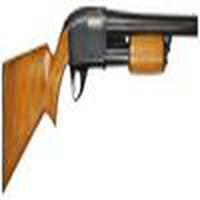gun: (1, 7, 200, 172)
